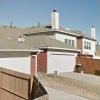Chimney: (40, 3, 80, 48)
